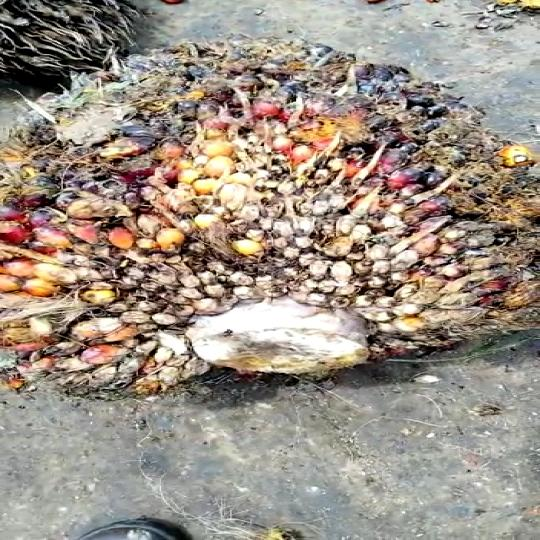kurang masak: (0, 22, 540, 395)
